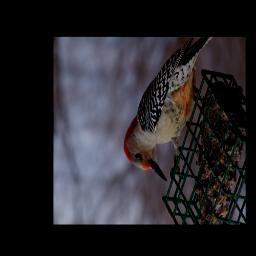Woodpecker: (123, 37, 208, 180)
